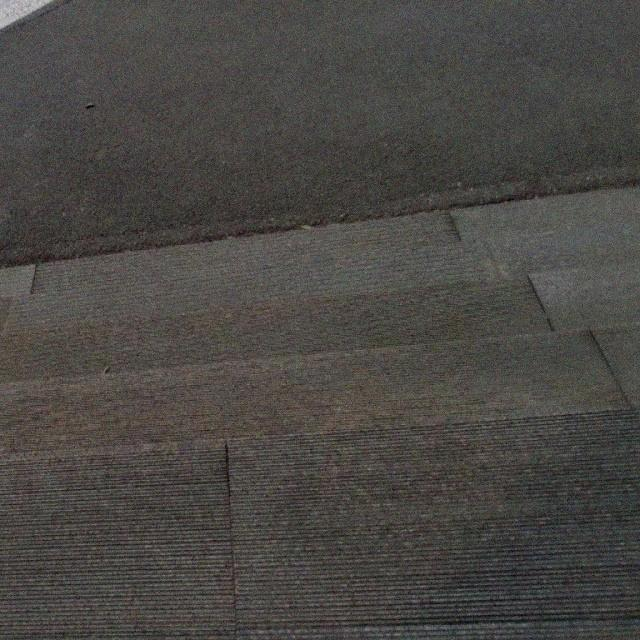stair: (0, 166, 634, 584)
